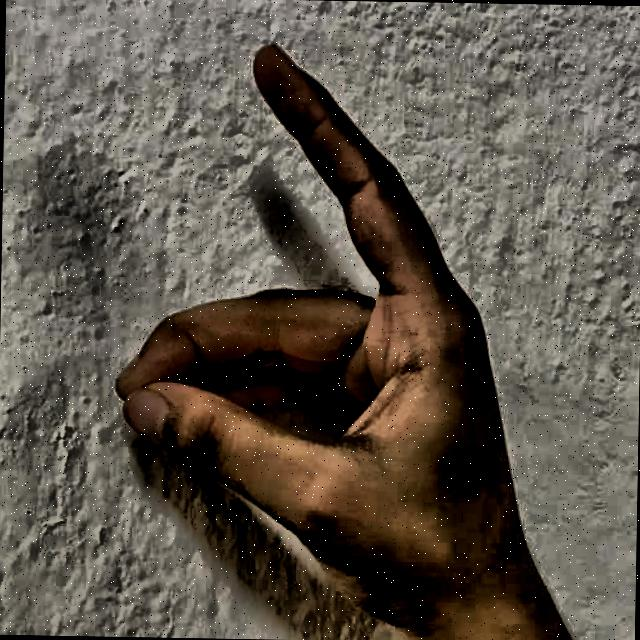Dha: (98, 20, 578, 640)
